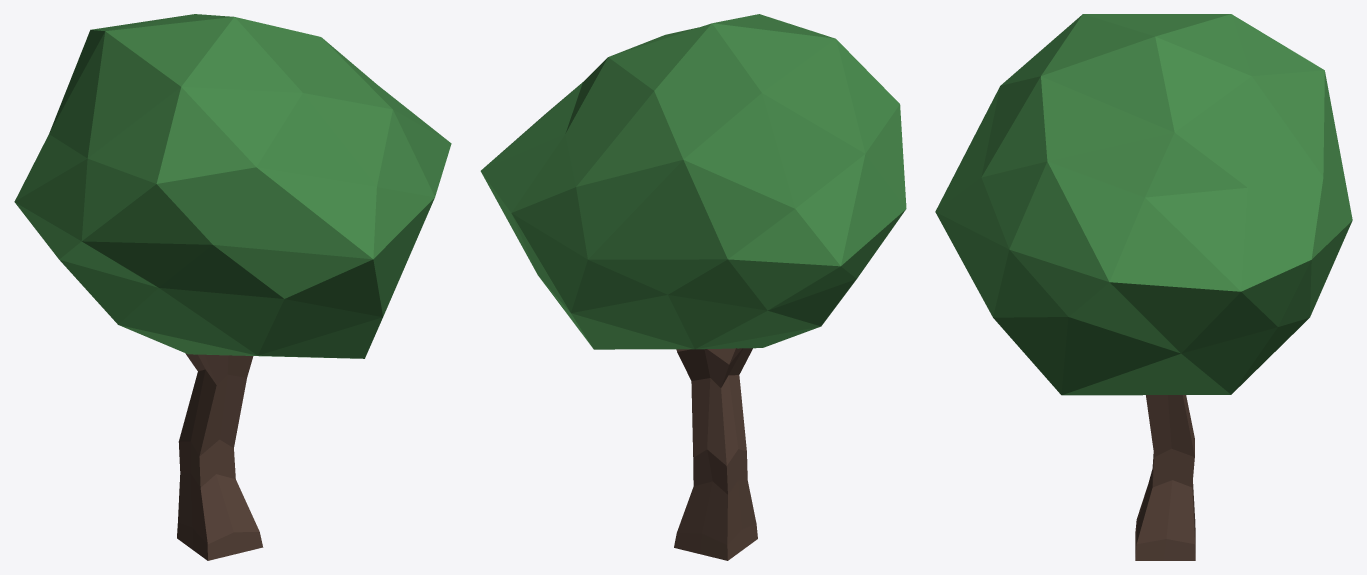
File: Tree_32_Green.fbx
3 renders of one model, left to right at view 1: azimuth 30°, elevation 25°; view 2: azimuth 150°, elevation 25°; view 3: azimuth 270°, elevation 25°, orthographic. The views are drawn at different scales.
Visible parts, largest first — view 1: Tree_32_Green_Part_1, Tree_32_Green_Part_2; view 2: Tree_32_Green_Part_1, Tree_32_Green_Part_2; view 3: Tree_32_Green_Part_1, Tree_32_Green_Part_2.
Boxes of the visible parts, x1=… form: Tree_32_Green_Part_1: x1=14, y1=14, x2=451, y2=358; Tree_32_Green_Part_2: x1=177, y1=353, x2=263, y2=560; Tree_32_Green_Part_1: x1=480, y1=14, x2=906, y2=349; Tree_32_Green_Part_2: x1=674, y1=348, x2=757, y2=560; Tree_32_Green_Part_1: x1=935, y1=14, x2=1352, y2=395; Tree_32_Green_Part_2: x1=1135, y1=395, x2=1195, y2=560.
Bounding box in the file's own units: 597 × 814 × 598.
